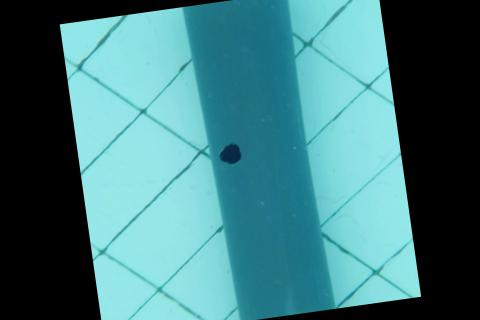kebocoran: (215, 140, 244, 165)
